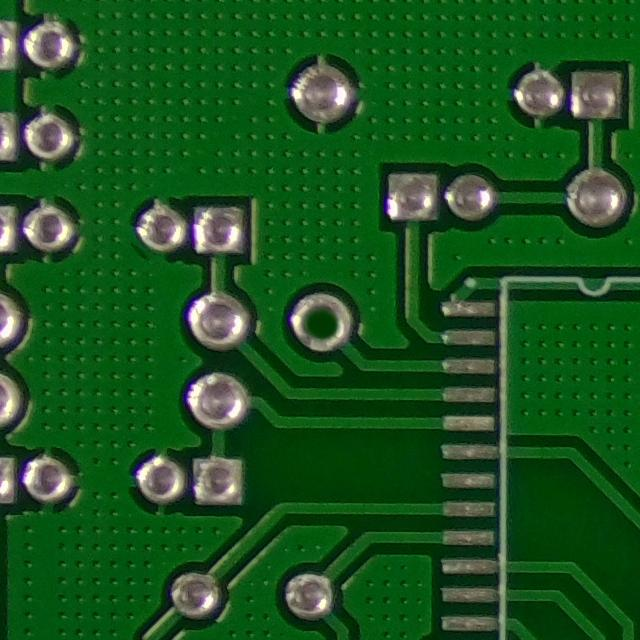missing_hole: (280, 284, 360, 357)
